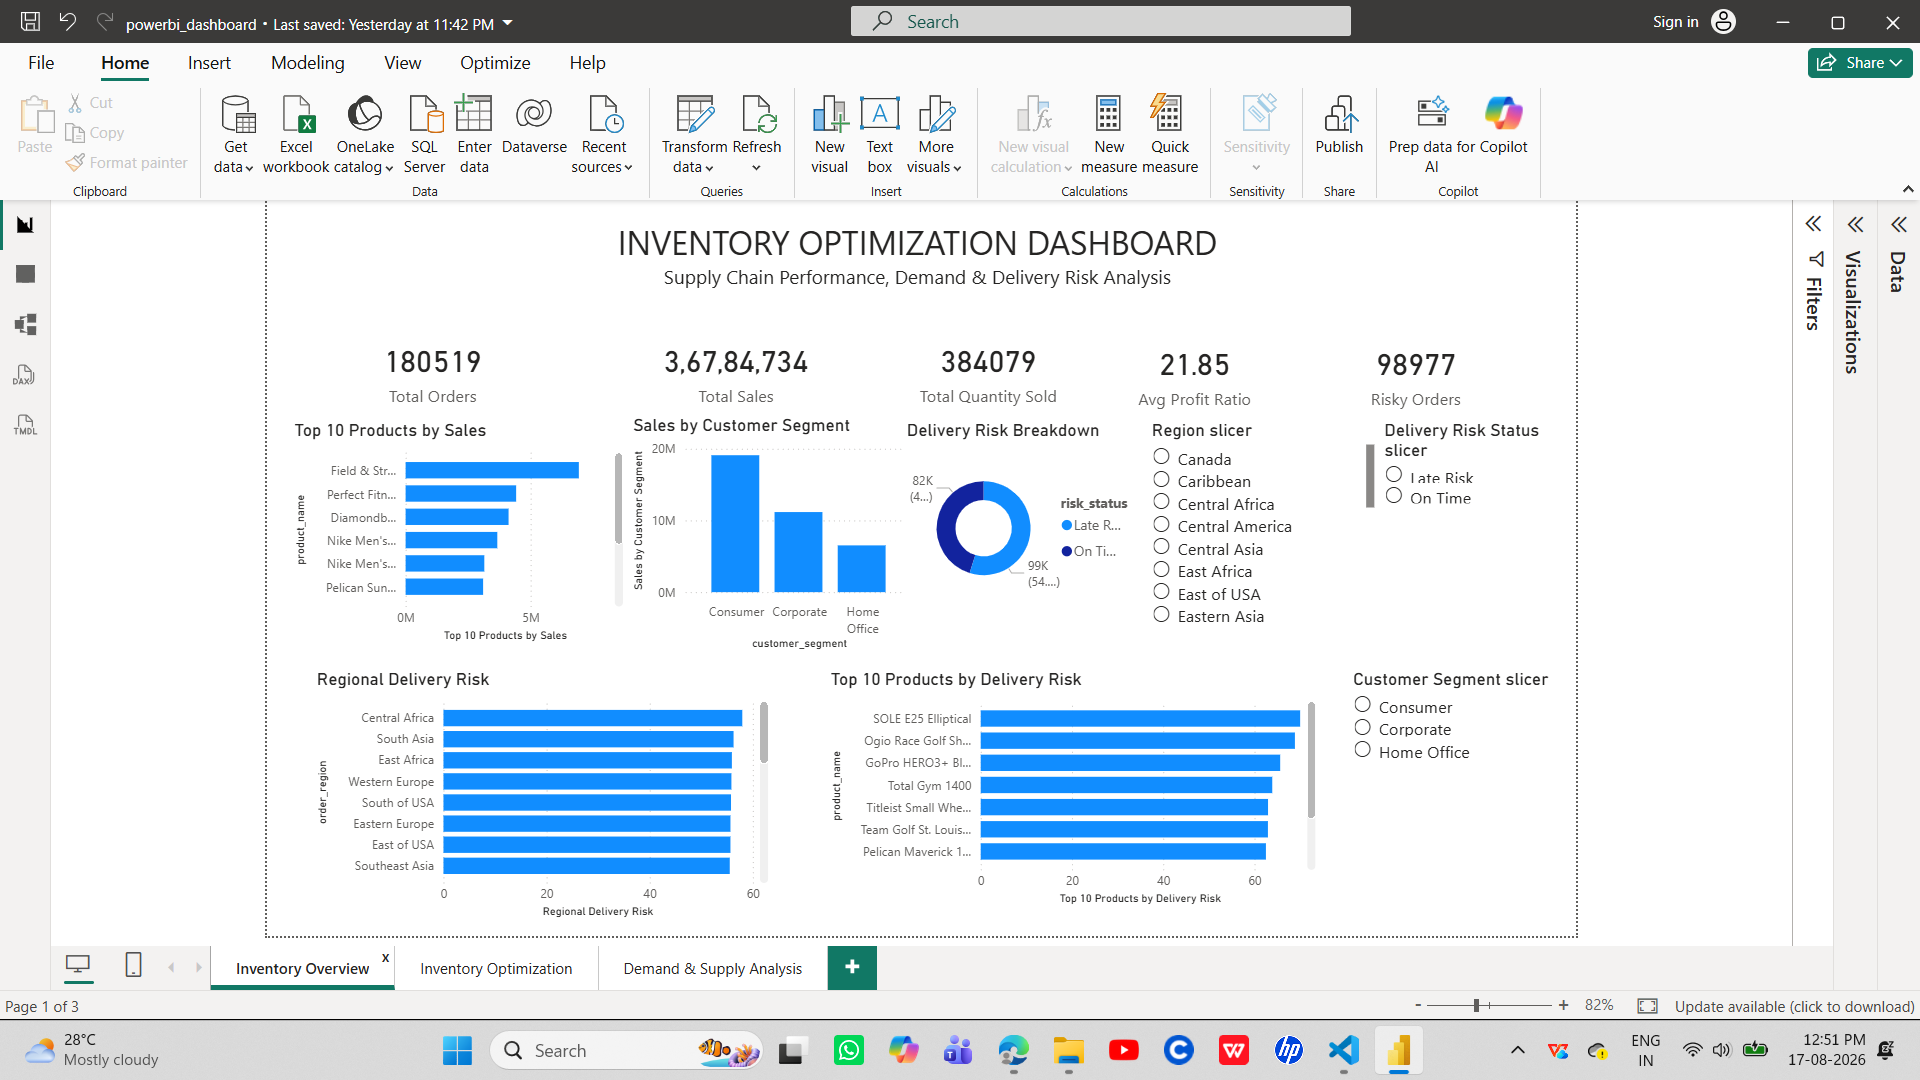

The dashboard page shown, as its layout file describes it:
{"tool":"powerbi","page":{"name":"Inventory Overview","canvas":[1280,720],"ordinal":0},"visuals":[{"type":"card","fields":{"Values":["Sum(delivery_analysis.total_orders)"]},"box":[74.3,110,175.7,114.3],"z":0},{"type":"card","fields":{"Values":["Sum(delivery_analysis.total_sales)"]},"box":[370,110,177.1,114.3],"z":1000},{"type":"card","fields":{"Values":["Sum(segment_analysis.total_quantity_sold)"]},"box":[610,110,191.4,114.3],"z":2000},{"type":"card","fields":{"Values":["Avg(segment_analysis.avg_profit_ratio)"]},"box":[814.7,113.2,186.8,113.2],"z":3000},{"type":"card","fields":{"Values":["Sum(delivery_analysis.total_orders)"]},"box":[983.8,113.2,279.4,113.2],"z":4000},{"type":"textbox","box":[10.3,14.7,1252.9,98.5],"z":5000},{"type":"clusteredBarChart","title":"Top 10 Products by Sales","fields":{"Category":["product_analysis.product_name"],"Y":["Sum(product_analysis.total_sales)"]},"box":[21.4,215.7,331.4,221.4],"z":6000},{"type":"clusteredColumnChart","title":"Sales by Customer Segment","fields":{"Category":["segment_analysis.customer_segment"],"Y":["Sum(segment_analysis.total_sales)"]},"box":[352.9,210,284.3,234.3],"z":7000},{"type":"clusteredBarChart","title":"Regional Delivery Risk","fields":{"Category":["region_analysis.order_region"],"Y":["Sum(region_analysis.risk_percentage)"]},"box":[44.3,458.6,451.4,248.6],"z":8000},{"type":"donutChart","title":"Delivery Risk Breakdown","fields":{"Category":["delivery_analysis.risk_status"],"Y":["Sum(delivery_analysis.total_orders)"]},"box":[621.4,215.7,240,192.9],"z":9000},{"type":"clusteredBarChart","title":"Top 10 Products by Delivery Risk","fields":{"Category":["product_analysis.product_name"],"Y":["Sum(product_analysis.risk_percentage)"]},"box":[547.1,458.6,484.3,235.7],"z":10000},{"type":"listSlicer","title":"Customer Segment slicer","fields":{"Values":["segment_analysis.customer_segment"]},"box":[1057.1,458.6,207.1,204.3],"z":11000},{"type":"listSlicer","title":"Region slicer","fields":{"Values":["region_analysis.order_region"]},"box":[861.4,215.7,227.1,204.3],"z":12000},{"type":"listSlicer","title":"Delivery Risk Status slicer","fields":{"Values":["delivery_analysis.risk_status"]},"box":[1088.6,215.7,174.3,211.4],"z":13000}]}

Visuals, with their boxes on the page's 1280x720 design canvas (x1, y1, x2, y2). These are canvas units, not pixel positions in the 1920x1080 screenshot, which may show the page scaled, cropped or inside an application window:
card - Sum(delivery_analysis.total_orders): pyautogui.locateOnScreen(74, 110, 250, 224)
card - Sum(delivery_analysis.total_sales): pyautogui.locateOnScreen(370, 110, 547, 224)
card - Sum(segment_analysis.total_quantity_sold): pyautogui.locateOnScreen(610, 110, 801, 224)
card - Avg(segment_analysis.avg_profit_ratio): pyautogui.locateOnScreen(815, 113, 1002, 226)
card - Sum(delivery_analysis.total_orders): pyautogui.locateOnScreen(984, 113, 1263, 226)
textbox: pyautogui.locateOnScreen(10, 15, 1263, 113)
"Top 10 Products by Sales" clusteredBarChart: pyautogui.locateOnScreen(21, 216, 353, 437)
"Sales by Customer Segment" clusteredColumnChart: pyautogui.locateOnScreen(353, 210, 637, 444)
"Regional Delivery Risk" clusteredBarChart: pyautogui.locateOnScreen(44, 459, 496, 707)
"Delivery Risk Breakdown" donutChart: pyautogui.locateOnScreen(621, 216, 861, 409)
"Top 10 Products by Delivery Risk" clusteredBarChart: pyautogui.locateOnScreen(547, 459, 1031, 694)
"Customer Segment slicer" listSlicer: pyautogui.locateOnScreen(1057, 459, 1264, 663)
"Region slicer" listSlicer: pyautogui.locateOnScreen(861, 216, 1088, 420)
"Delivery Risk Status slicer" listSlicer: pyautogui.locateOnScreen(1089, 216, 1263, 427)
